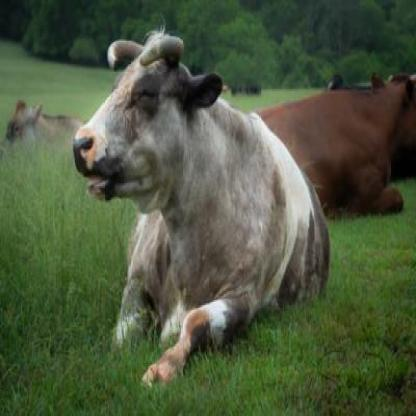lower: (88, 186, 98, 196)
mouth: (72, 127, 120, 203)
upper: (71, 142, 83, 158)
